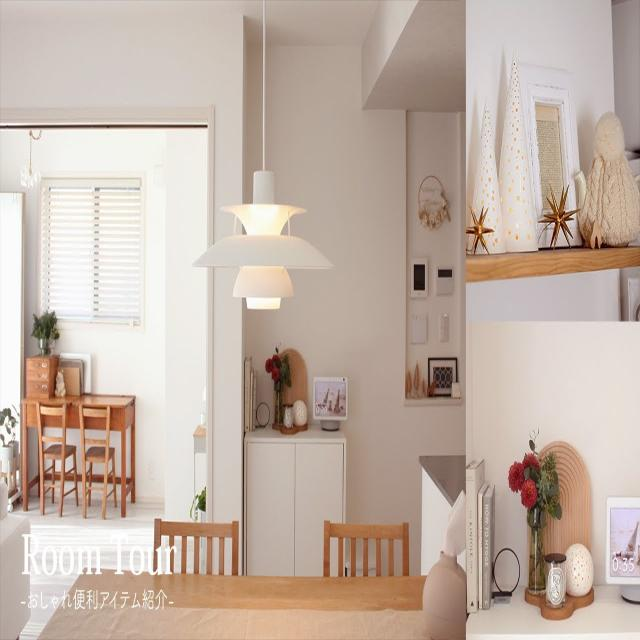natural chair: (79, 407, 118, 522), (36, 398, 70, 520)
natural desk: (19, 386, 139, 511)
natural shelf: (244, 426, 344, 563)
